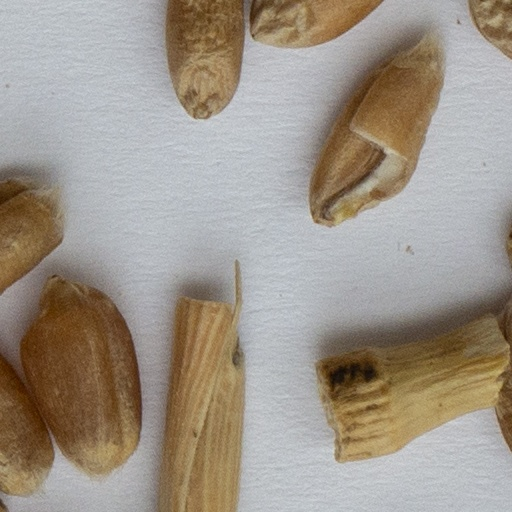Peel-poly: (319, 317, 508, 461), (159, 260, 243, 511)
